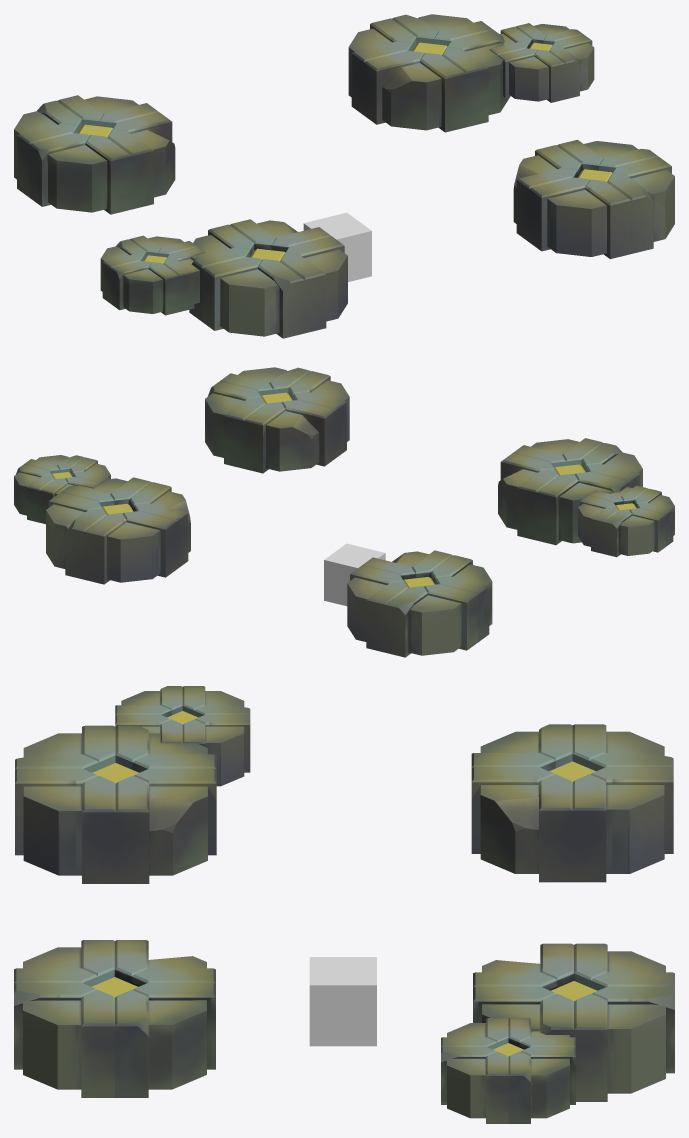
File: battlescence-2-floor008.fbx
The picture shows the model from 3 angles, top to bottom: view 1: azimuth 30°, elevation 25°; view 2: azimuth 150°, elevation 25°; view 3: azimuth 270°, elevation 25°; orthographic projection. The views are drawn at different scales.
Parts seen in each view (by area): view 1: Plane.012, Plane.015, Plane.016, Plane.014, Plane.037, Plane.009, battlescence-2-floor008; view 2: Plane.012, Plane.015, Plane.016, Plane.014, Plane.037, Plane.009, battlescence-2-floor008; view 3: Plane.015, Plane.014, Plane.012, Plane.016, Plane.009, Plane.037, battlescence-2-floor008.
Boxes of the visible parts, x1,y1,x2,y2 form: Plane.012: [513, 139, 674, 259]; Plane.015: [14, 95, 175, 214]; Plane.016: [348, 14, 509, 132]; Plane.014: [189, 219, 347, 338]; Plane.037: [100, 235, 205, 315]; Plane.009: [489, 23, 594, 102]; battlescence-2-floor008: [303, 212, 371, 281]; Plane.012: [205, 367, 349, 473]; Plane.015: [347, 550, 492, 657]; Plane.016: [46, 477, 190, 584]; Plane.014: [498, 438, 642, 545]; Plane.037: [578, 485, 674, 557]; Plane.009: [14, 455, 110, 524]; battlescence-2-floor008: [324, 543, 385, 606]; Plane.015: [471, 724, 673, 882]; Plane.014: [15, 725, 216, 883]; Plane.012: [14, 940, 215, 1097]; Plane.016: [473, 943, 674, 1101]; Plane.009: [441, 1018, 575, 1123]; Plane.037: [115, 686, 250, 786]; battlescence-2-floor008: [309, 957, 376, 1046].
Size of the model in its own units: 2736 by 534 by 1964.
